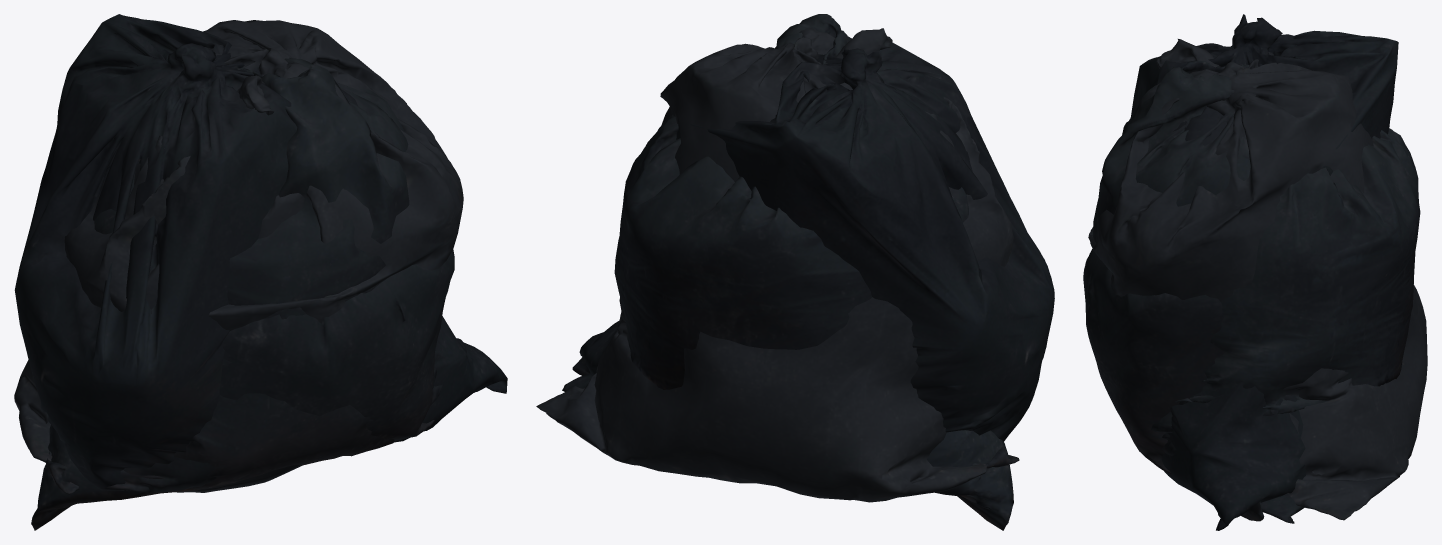
The model's file is Trash_Bag_Pack_ve2hddjga_High.gltf.
3 views of the same model, side by side, from view 1: azimuth 30°, elevation 25°; view 2: azimuth 150°, elevation 25°; view 3: azimuth 270°, elevation 25° (orthographic). The views are drawn at different scales.
Parts seen in each view (by area): view 1: ve2hddjga_LOD0_TIER1_003, ve2hddjga_LOD0_TIER1_001, ve2hddjga_LOD0_TIER1_000, ve2hddjga_LOD0_TIER1_002; view 2: ve2hddjga_LOD0_TIER1_000, ve2hddjga_LOD0_TIER1_003, ve2hddjga_LOD0_TIER1_001, ve2hddjga_LOD0_TIER1_002; view 3: ve2hddjga_LOD0_TIER1_001, ve2hddjga_LOD0_TIER1_000, ve2hddjga_LOD0_TIER1_003, ve2hddjga_LOD0_TIER1_002.
Boxes of the visible parts, left/top/right/bottom form: ve2hddjga_LOD0_TIER1_003: left=14, top=14, right=507, bottom=489; ve2hddjga_LOD0_TIER1_001: left=31, top=57, right=442, bottom=530; ve2hddjga_LOD0_TIER1_000: left=14, top=20, right=463, bottom=492; ve2hddjga_LOD0_TIER1_002: left=45, top=249, right=454, bottom=494; ve2hddjga_LOD0_TIER1_000: left=536, top=27, right=1016, bottom=502; ve2hddjga_LOD0_TIER1_003: left=579, top=42, right=1054, bottom=441; ve2hddjga_LOD0_TIER1_001: left=572, top=14, right=1013, bottom=530; ve2hddjga_LOD0_TIER1_002: left=562, top=373, right=1019, bottom=468; ve2hddjga_LOD0_TIER1_001: left=1093, top=61, right=1420, bottom=521; ve2hddjga_LOD0_TIER1_000: left=1088, top=39, right=1427, bottom=520; ve2hddjga_LOD0_TIER1_003: left=1130, top=14, right=1398, bottom=530; ve2hddjga_LOD0_TIER1_002: left=1083, top=249, right=1304, bottom=523.
Size of the model in its own units: 0.7301 by 0.6811 by 0.5056.
1 material, 1 textured.
